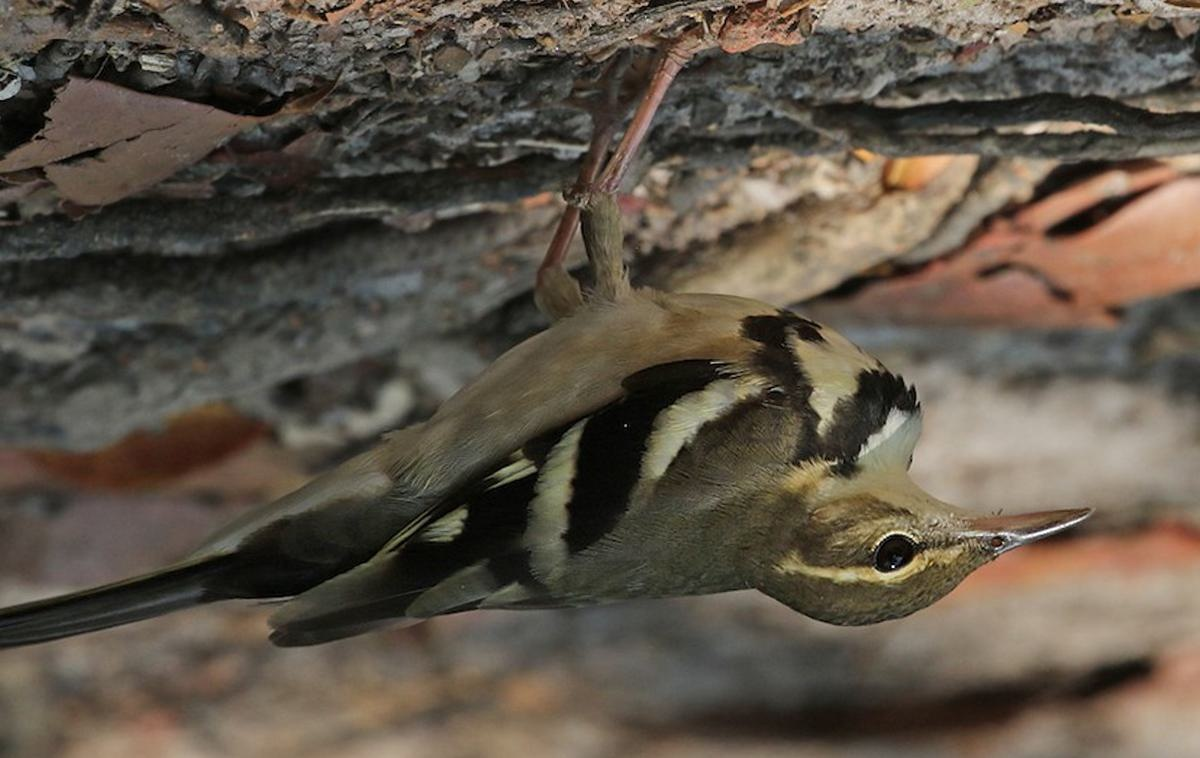wagtail: (140, 216, 1096, 622)
